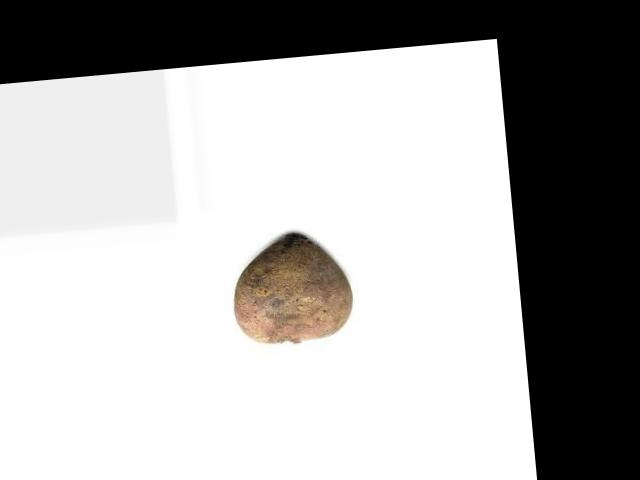beet: (227, 228, 356, 347)
